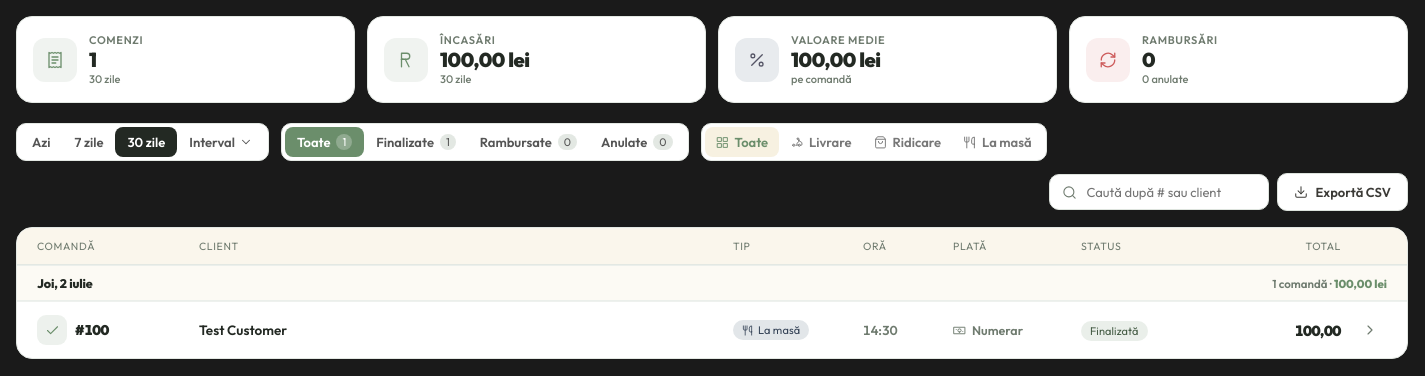
D-12/D-13 — period-dependent copy (tile sub-labels + empty state) › D-06: during an in-flight switch, the selected pill flips immediately but the tile sub-label stays pinned to the settled (30-day) period
The width and height of the screenshot is (1425, 376).
Expected: the text "Comenzi" shows "30 zile", [89,72,120,86]
Click the button with test id "history-period-pill" showing "7 zile". click: (89, 142)
box: [63,127,116,157]
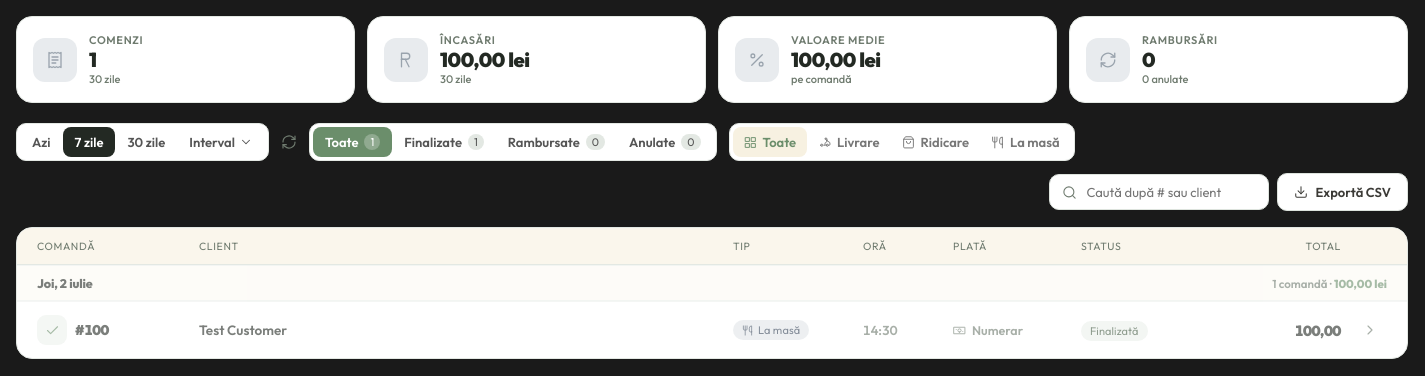
Expected: the text "Comenzi" shows "30 zile", [89,72,120,86]
Expected: the text "Comenzi" does not show "7 zile"
Click the button with test id "history-period-pill" showing "7 zile". click: (89, 142)
box: [63,127,116,157]
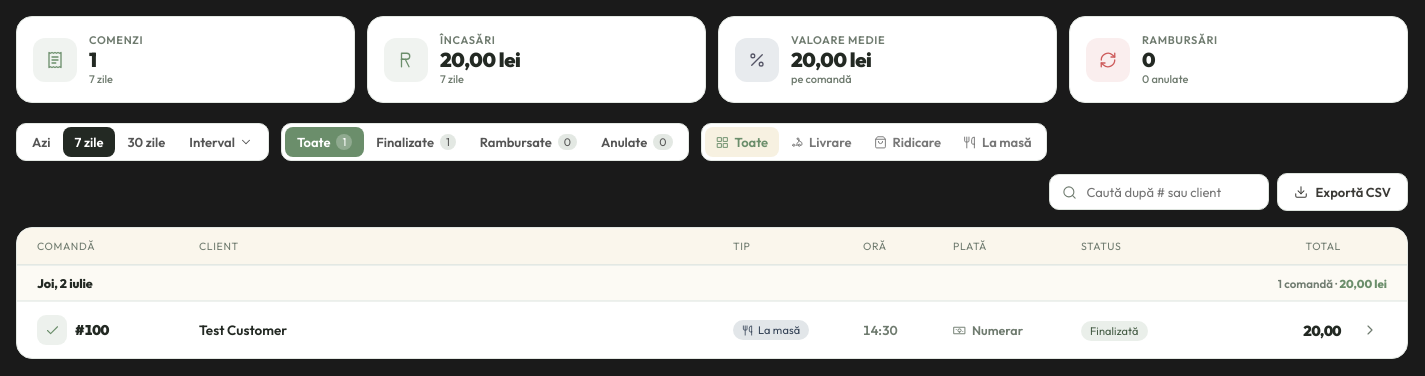
Now the text "Comenzi" shows "7 zile", box [89,72,113,86]
